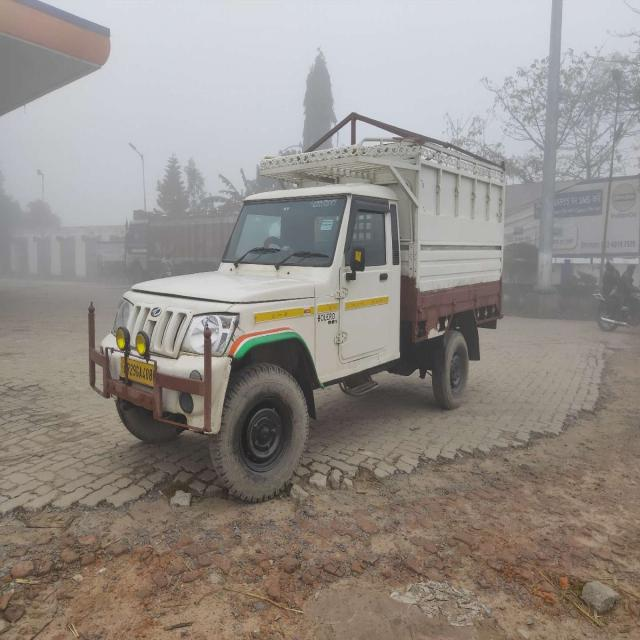light_vehicle: (102, 163, 506, 441)
